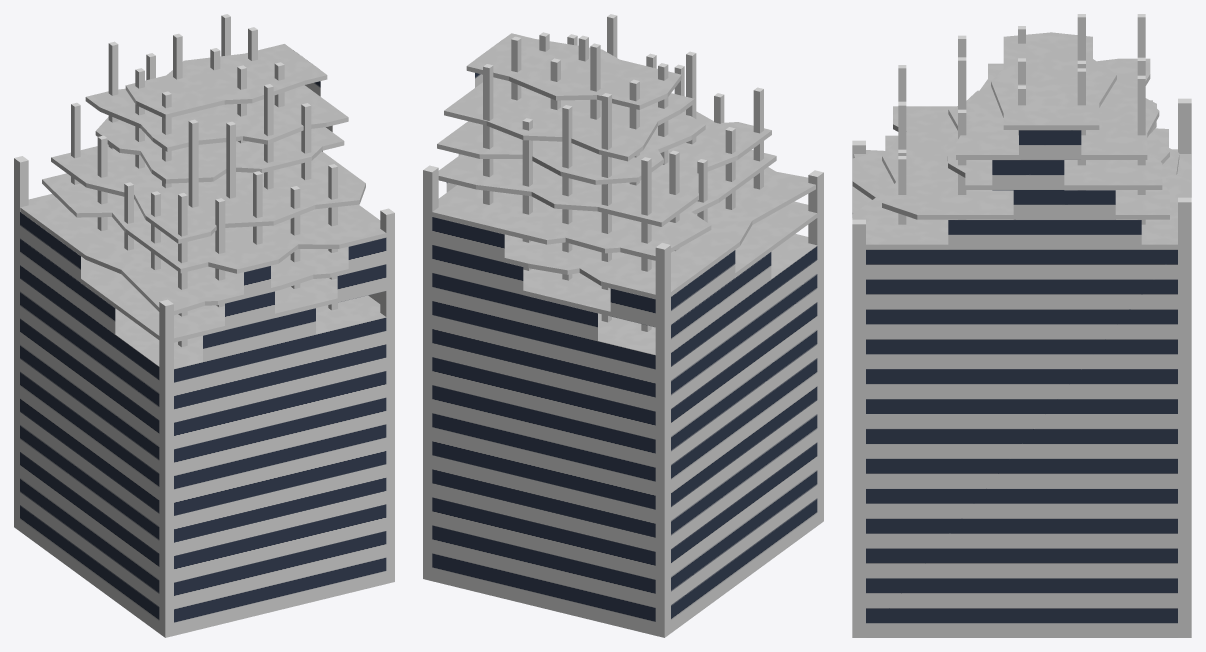
Rendered from Building_DT_M_W2_001.fbx.
The picture shows the model from 3 angles, left to right: view 1: azimuth 30°, elevation 25°; view 2: azimuth 150°, elevation 25°; view 3: azimuth 270°, elevation 25°; orthographic projection. The views are drawn at different scales.
Parts seen in each view (by area): view 1: Building_DT_M_W2_001; view 2: Building_DT_M_W2_001; view 3: Building_DT_M_W2_001.
Part boxes in pixels (left/top/right/bottom): Building_DT_M_W2_001: left=14, top=14, right=394, bottom=637; Building_DT_M_W2_001: left=423, top=14, right=823, bottom=637; Building_DT_M_W2_001: left=852, top=14, right=1191, bottom=637.
Size of the model in its own units: 39.71 by 82.53 by 45.34.
